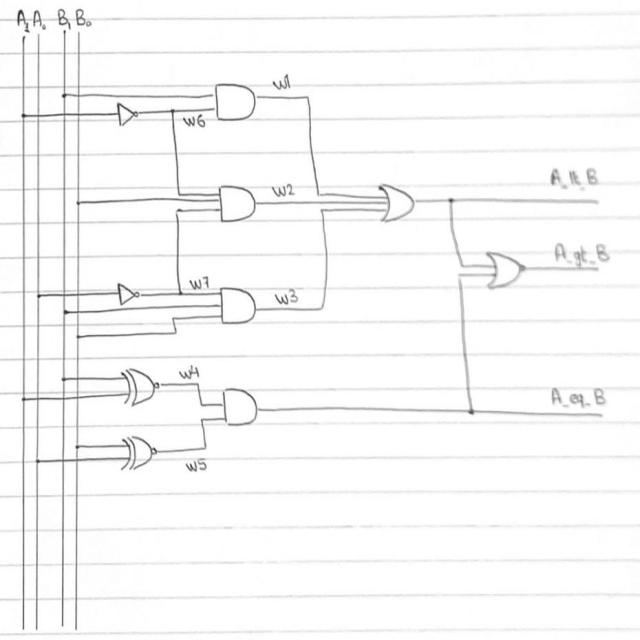AND: (217, 380, 268, 441), (210, 175, 263, 230), (216, 274, 263, 333), (208, 74, 260, 122)
NOR: (483, 242, 532, 302)
NOT: (110, 100, 144, 134), (112, 279, 143, 308)
OR: (370, 174, 420, 226)
XNOR: (113, 361, 167, 417), (115, 431, 164, 481)
